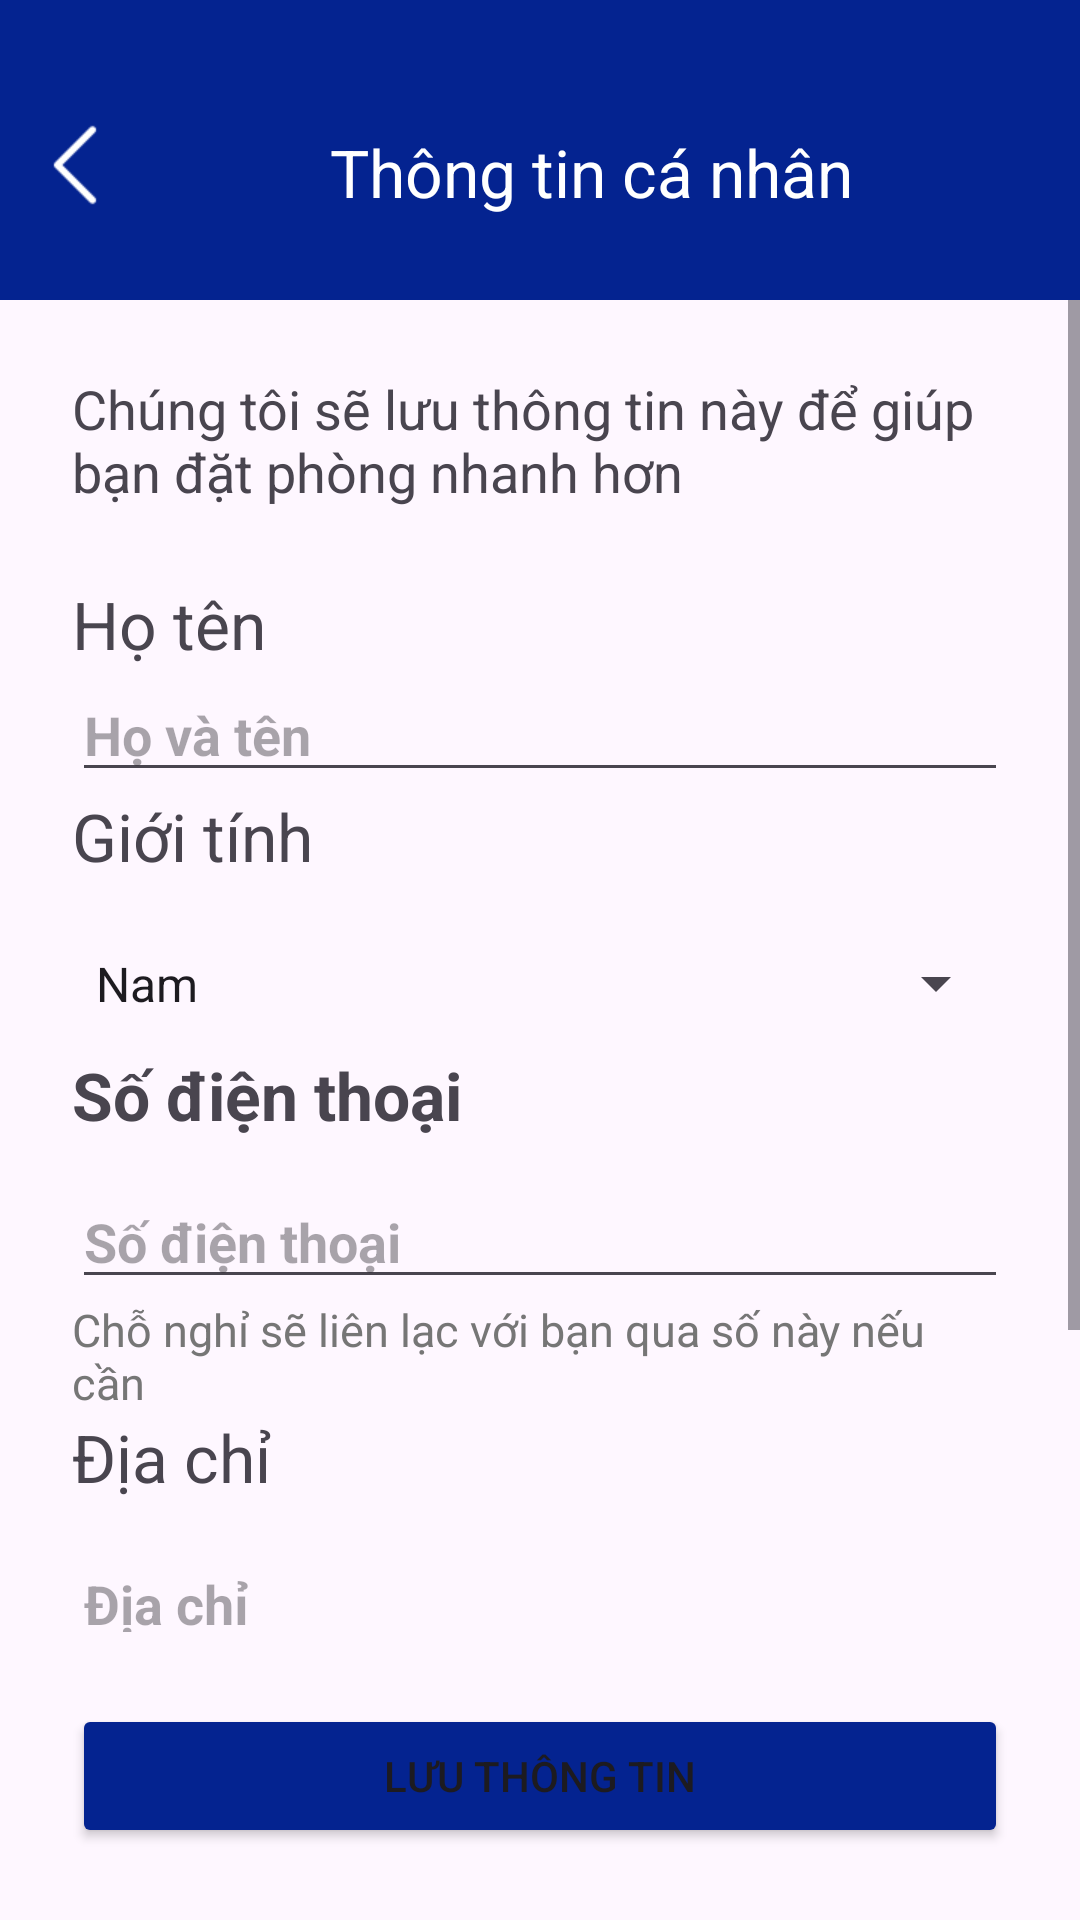

Where icons sit on this 1080×1920 app screen, as (x1, y1, x2, y2):
arrow left: (53, 125, 97, 205)
